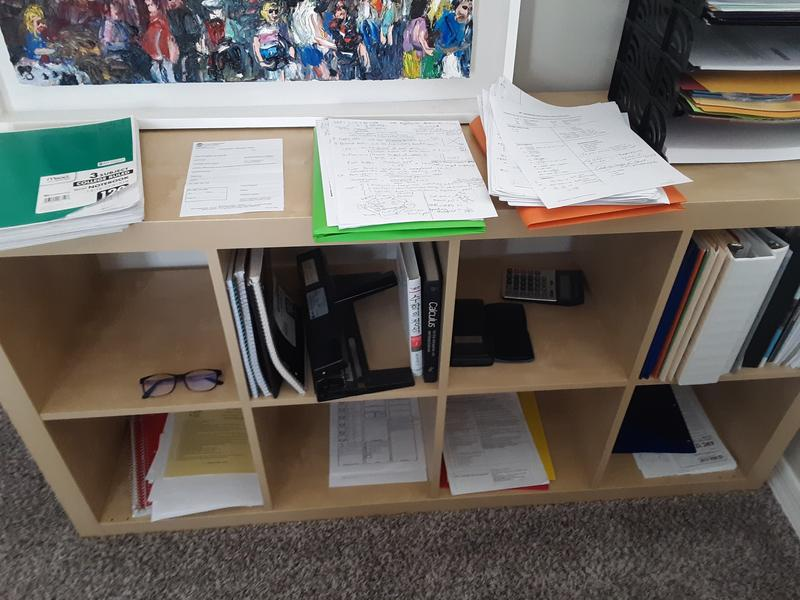glasses: (138, 368, 226, 399)
